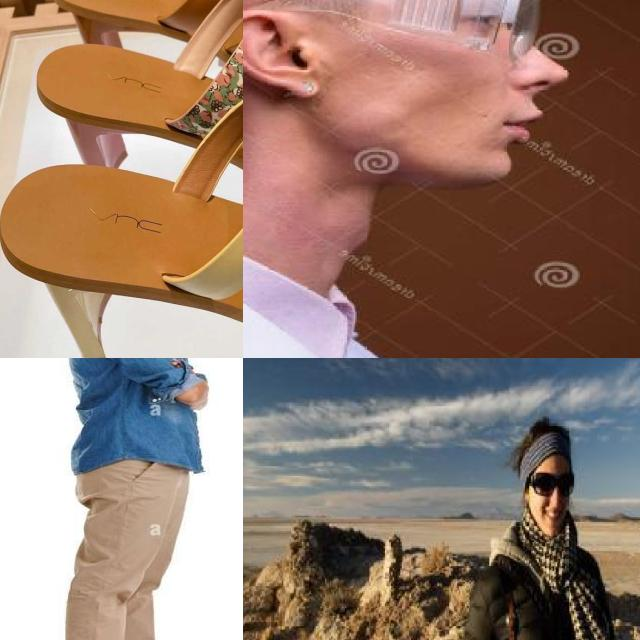No_Ear-Protection: (243, 3, 323, 102)
Sandals: (0, 62, 243, 358)
face_mask: (243, 0, 544, 68)
face_nomask: (450, 0, 579, 176), (529, 473, 575, 525)
glasses: (527, 469, 574, 506)
head_nohelmet: (514, 416, 579, 468)
person: (243, 0, 535, 358), (51, 358, 209, 640), (465, 403, 631, 640)
